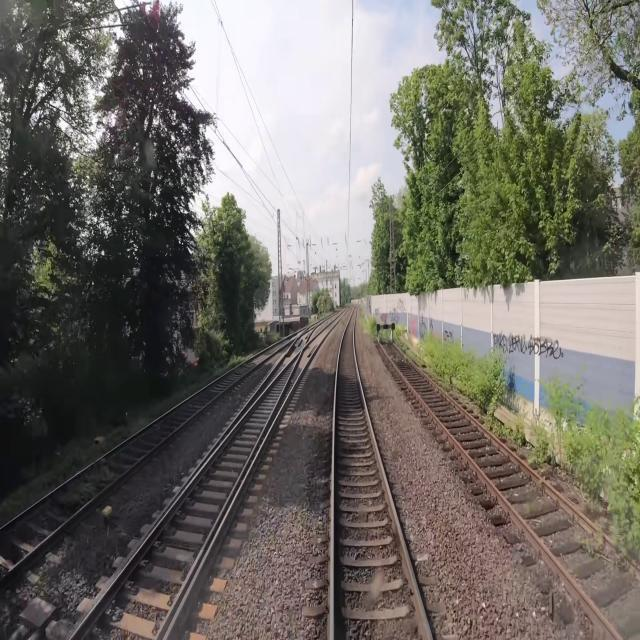Plant: (394, 336, 639, 564)
